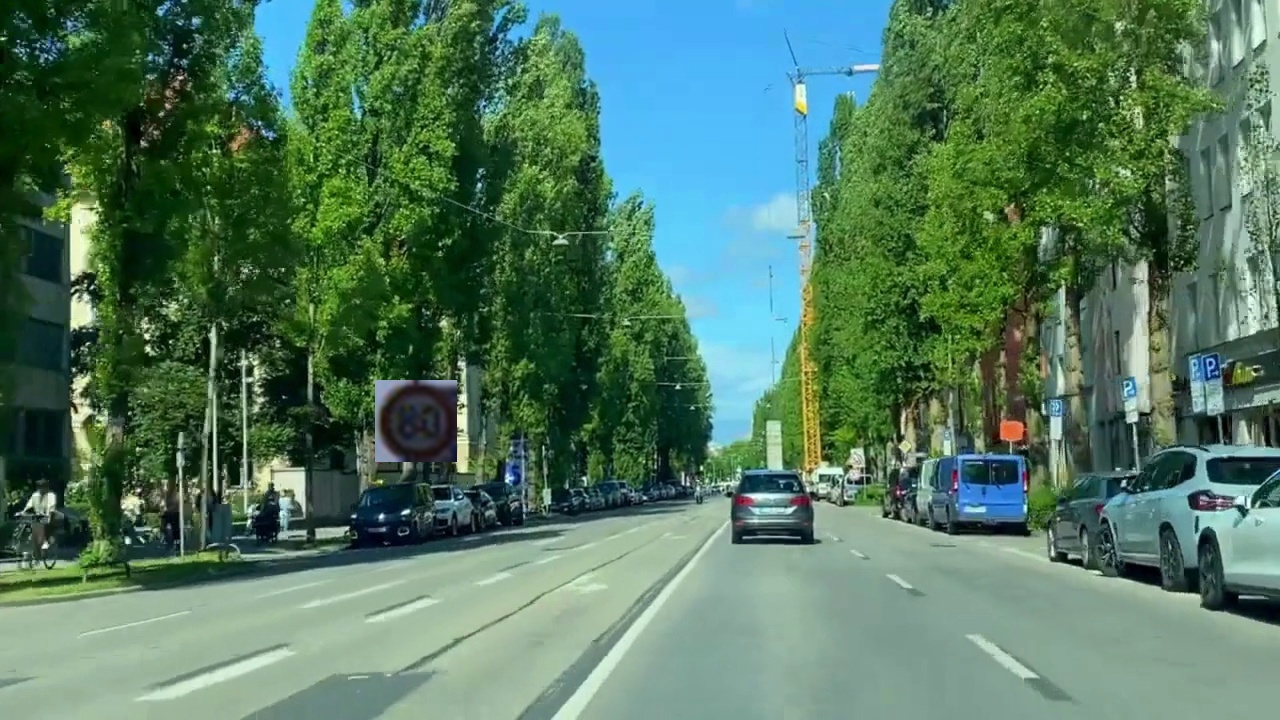Speed 80: (375, 380, 457, 462)
